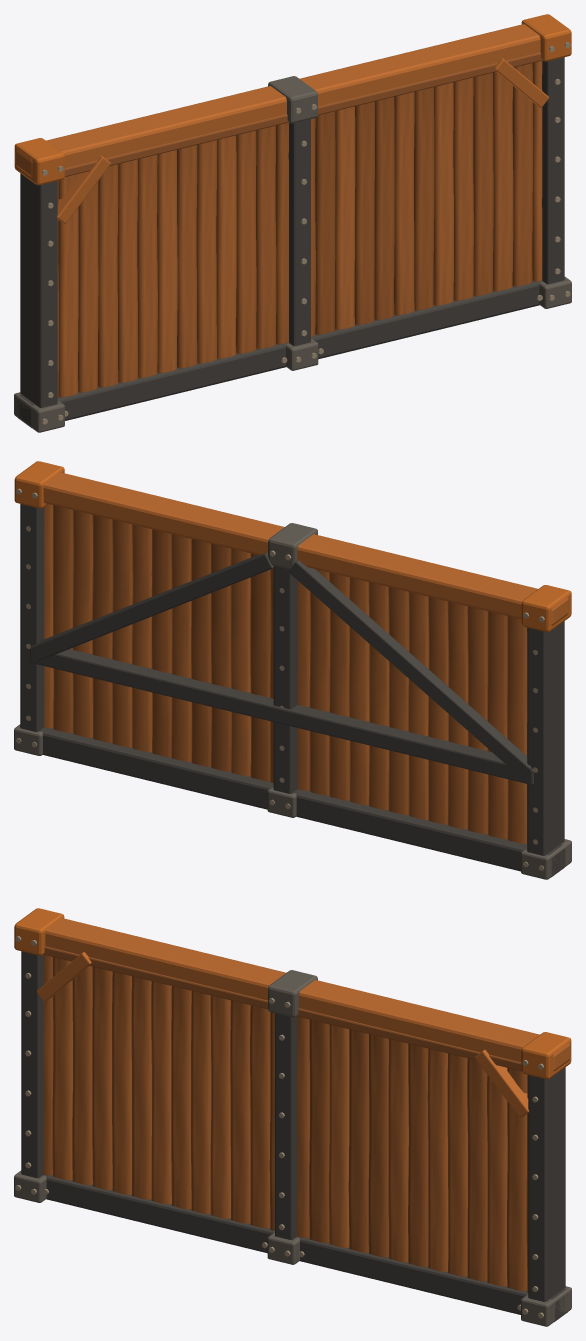
The model's file is wsc-module-006-range-backstop.glb.
3 renders of one model, top to bottom at view 1: azimuth 30°, elevation 25°; view 2: azimuth 150°, elevation 25°; view 3: azimuth 330°, elevation 25°, orthographic.
Parts seen in each view (by area): view 1: Burnished orange planks, Graphite iron framing, Honey orange trim, Darkened foot and wrap plates, Deep amber joinery, Burnt orange cap plates, Rounded worn pin tops; view 2: Burnished orange planks, Graphite iron framing, Honey orange trim, Darkened foot and wrap plates, Burnt orange cap plates, Rounded worn pin tops; view 3: Burnished orange planks, Graphite iron framing, Honey orange trim, Darkened foot and wrap plates, Deep amber joinery, Burnt orange cap plates, Rounded worn pin tops.
Boxes of the visible parts, x1=… form: Burnished orange planks: x1=57, y1=61, x2=542, y2=398; Graphite iron framing: x1=17, y1=57, x2=564, y2=427; Honey orange trim: x1=15, y1=24, x2=549, y2=223; Darkened foot and wrap plates: x1=14, y1=76, x2=571, y2=432; Deep amber joinery: x1=64, y1=52, x2=541, y2=176; Burnt orange cap plates: x1=14, y1=14, x2=571, y2=185; Rounded worn pin tops: x1=42, y1=42, x2=570, y2=424; Burnished orange planks: x1=44, y1=504, x2=527, y2=843; Graphite iron framing: x1=19, y1=504, x2=565, y2=877; Honey orange trim: x1=43, y1=472, x2=568, y2=625; Darkened foot and wrap plates: x1=14, y1=523, x2=571, y2=879; Burnt orange cap plates: x1=14, y1=461, x2=571, y2=632; Rounded worn pin tops: x1=16, y1=488, x2=544, y2=870; Burnished orange planks: x1=43, y1=955, x2=528, y2=1292; Graphite iron framing: x1=21, y1=951, x2=567, y2=1321; Honey orange trim: x1=36, y1=918, x2=570, y2=1117; Darkened foot and wrap plates: x1=14, y1=970, x2=571, y2=1326; Deep amber joinery: x1=44, y1=946, x2=521, y2=1070; Burnt orange cap plates: x1=14, y1=908, x2=571, y2=1079; Rounded worn pin tops: x1=15, y1=936, x2=543, y2=1318.
Bounding box in the file's own units: 5.28 × 2.57 × 0.459.
